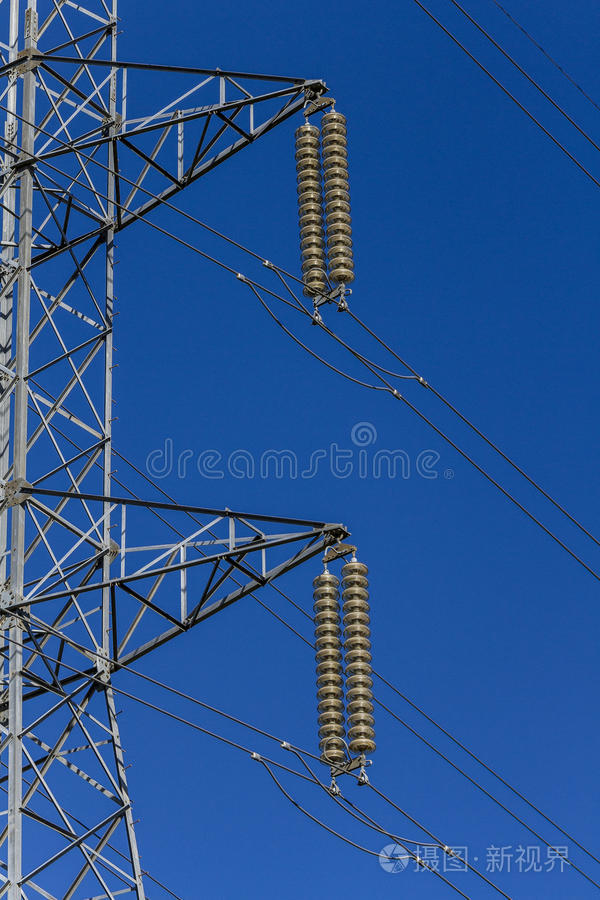insulator: (310, 562, 375, 762), (296, 112, 356, 294)
